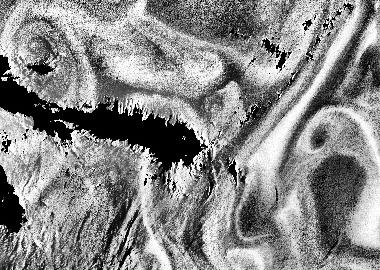CE: (296, 108, 347, 161), (14, 22, 56, 62)
